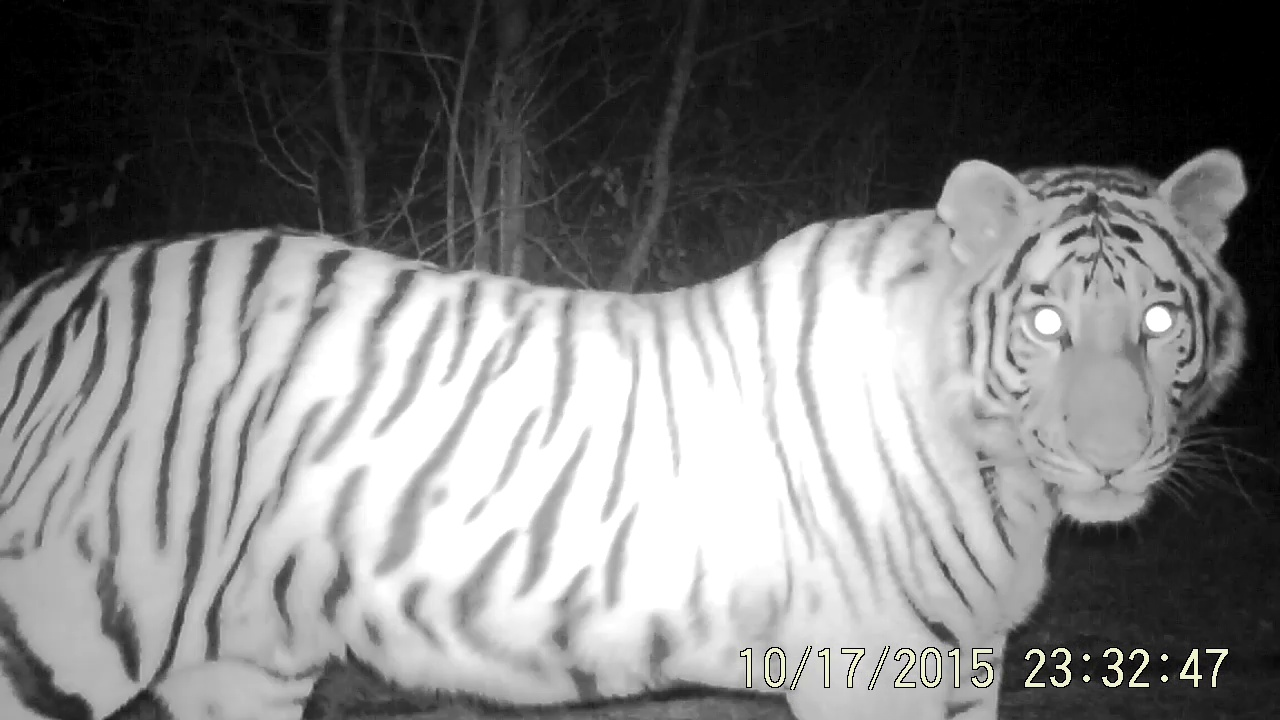Tiger: (6, 118, 1280, 720)
